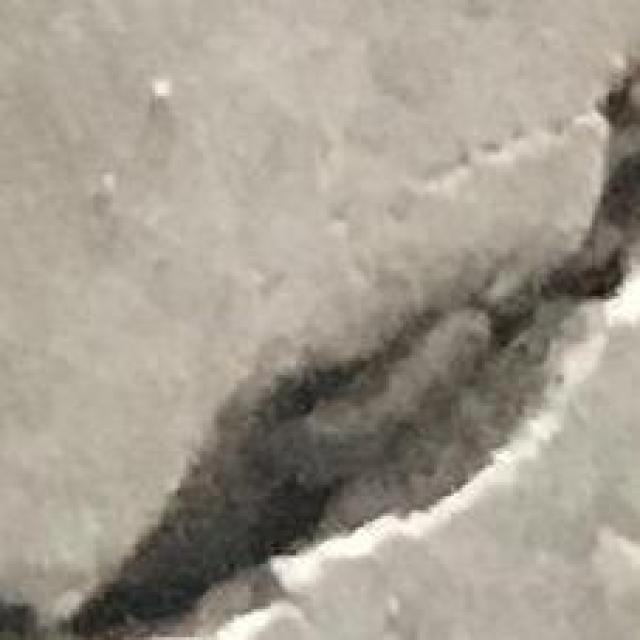diagonal crack: (57, 61, 639, 639)
